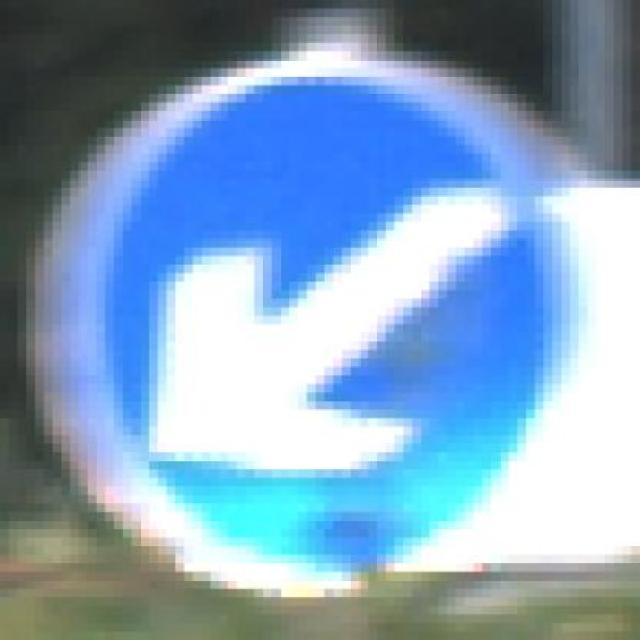Keep-Left: (35, 25, 596, 598)
